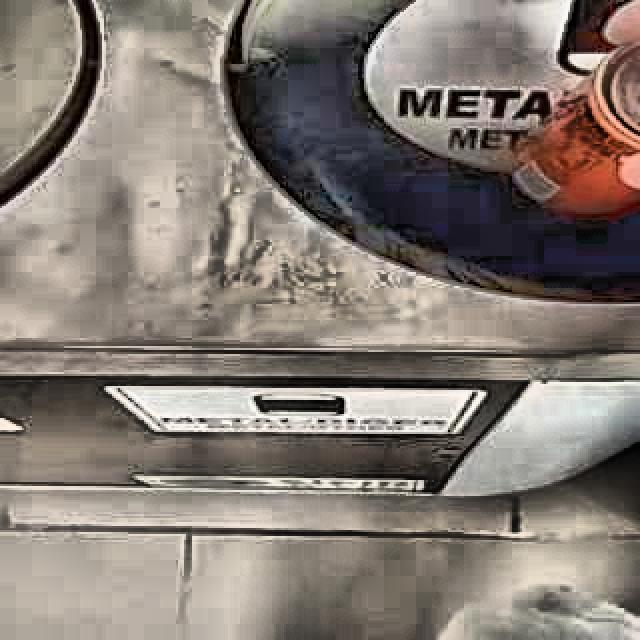metal: (515, 41, 640, 213)
